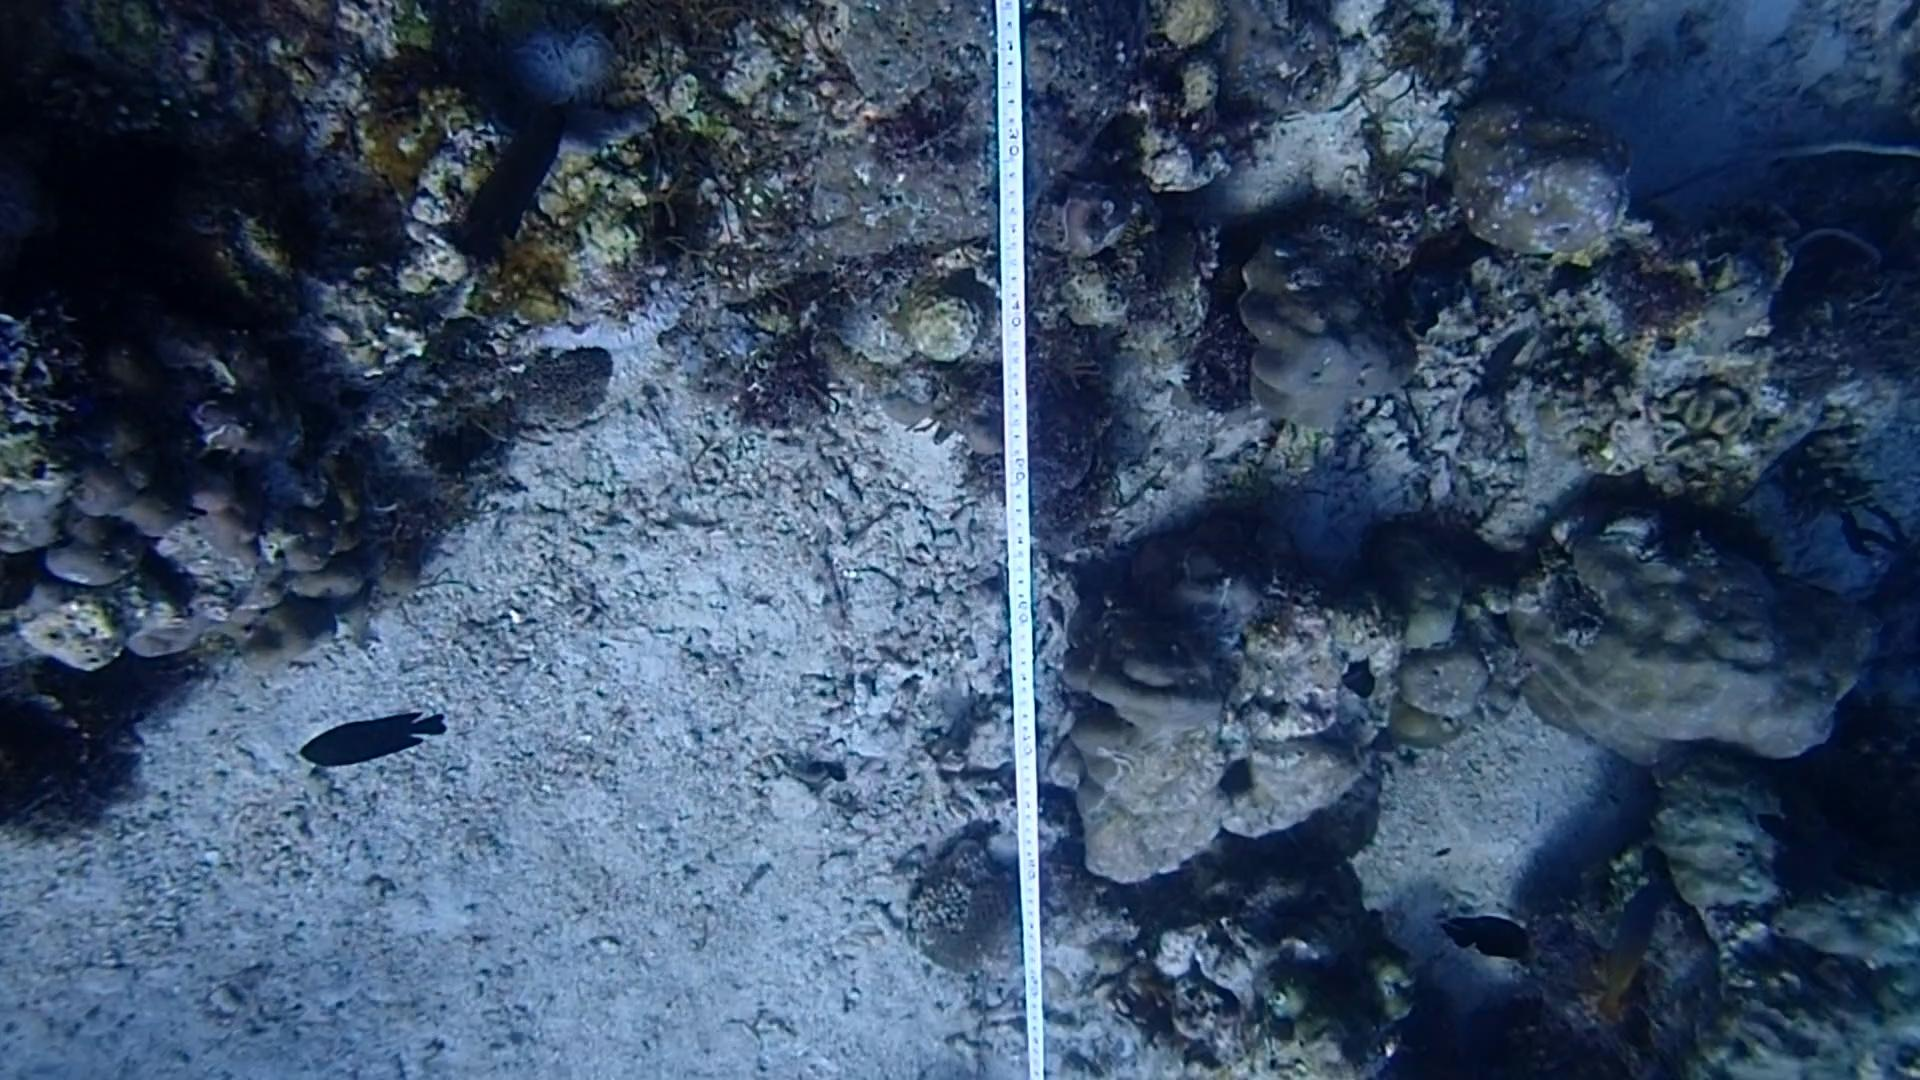Dark Fish: (444, 98, 578, 280), (270, 695, 458, 783), (1433, 897, 1545, 980)
Half Blue - Half Yellow: (1585, 877, 1668, 1026)
